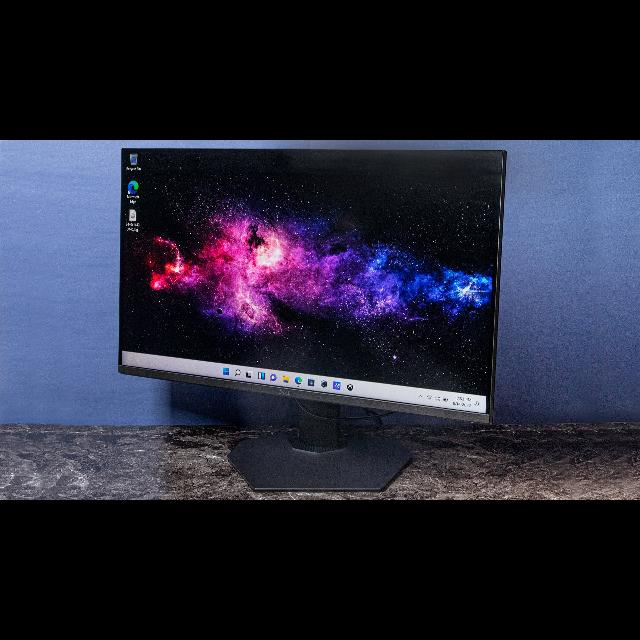Flat-Panel-Monitor: (117, 146, 510, 494)
